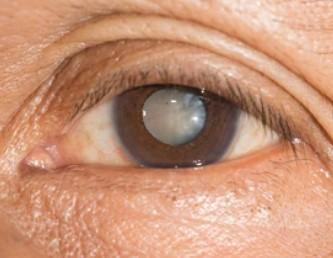eye: (114, 83, 241, 168)
